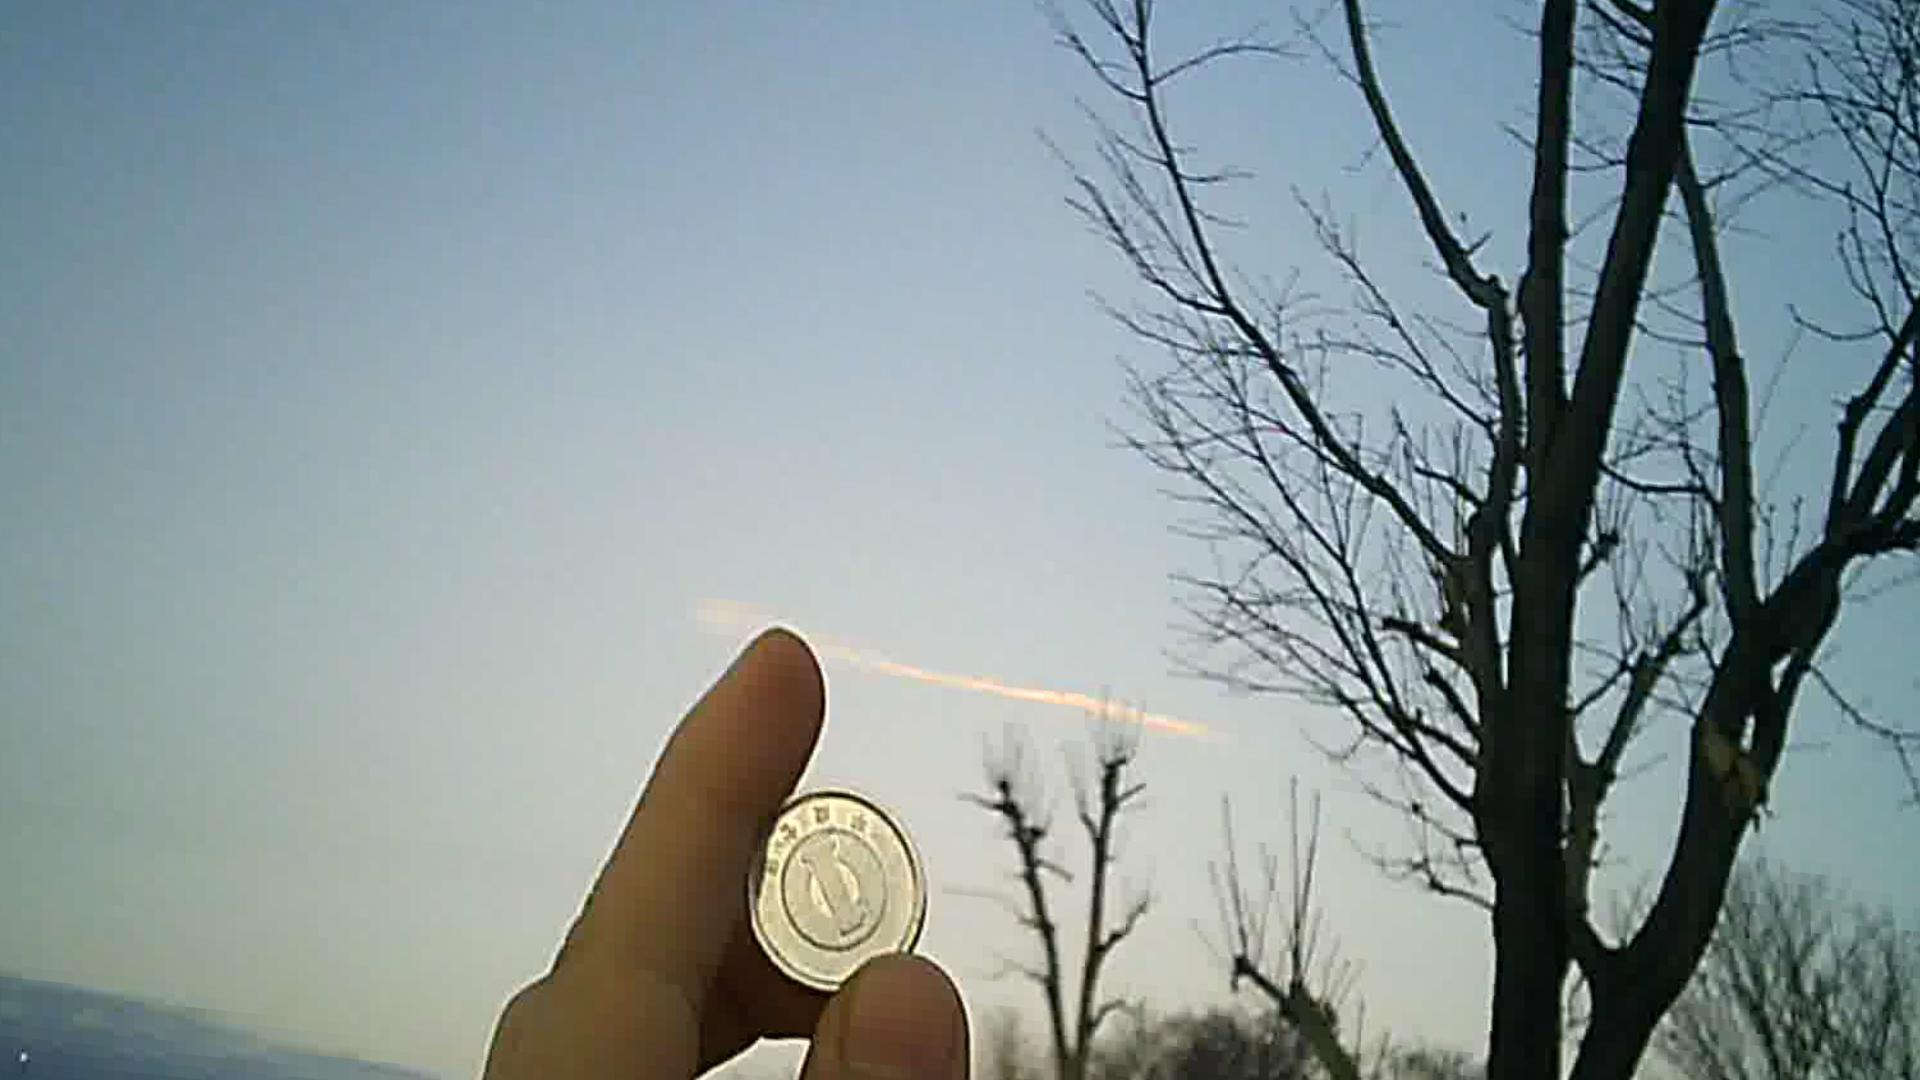1 Yen: (732, 771, 940, 980)
